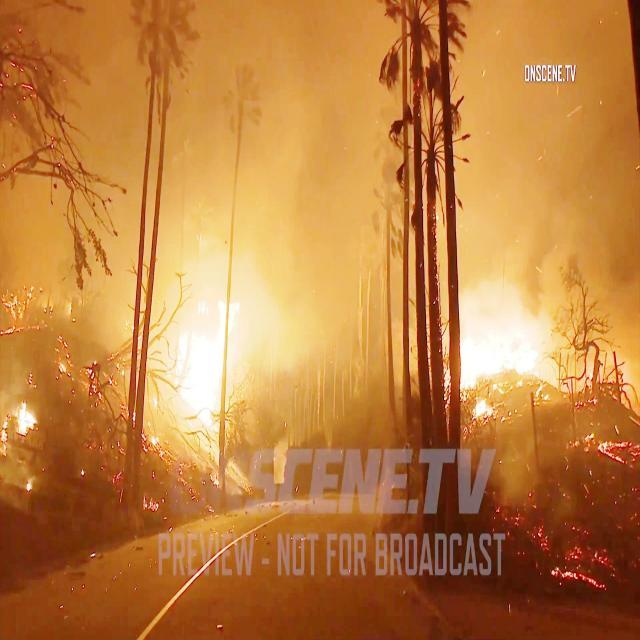Fire: (170, 296, 250, 426), (451, 302, 554, 398)
